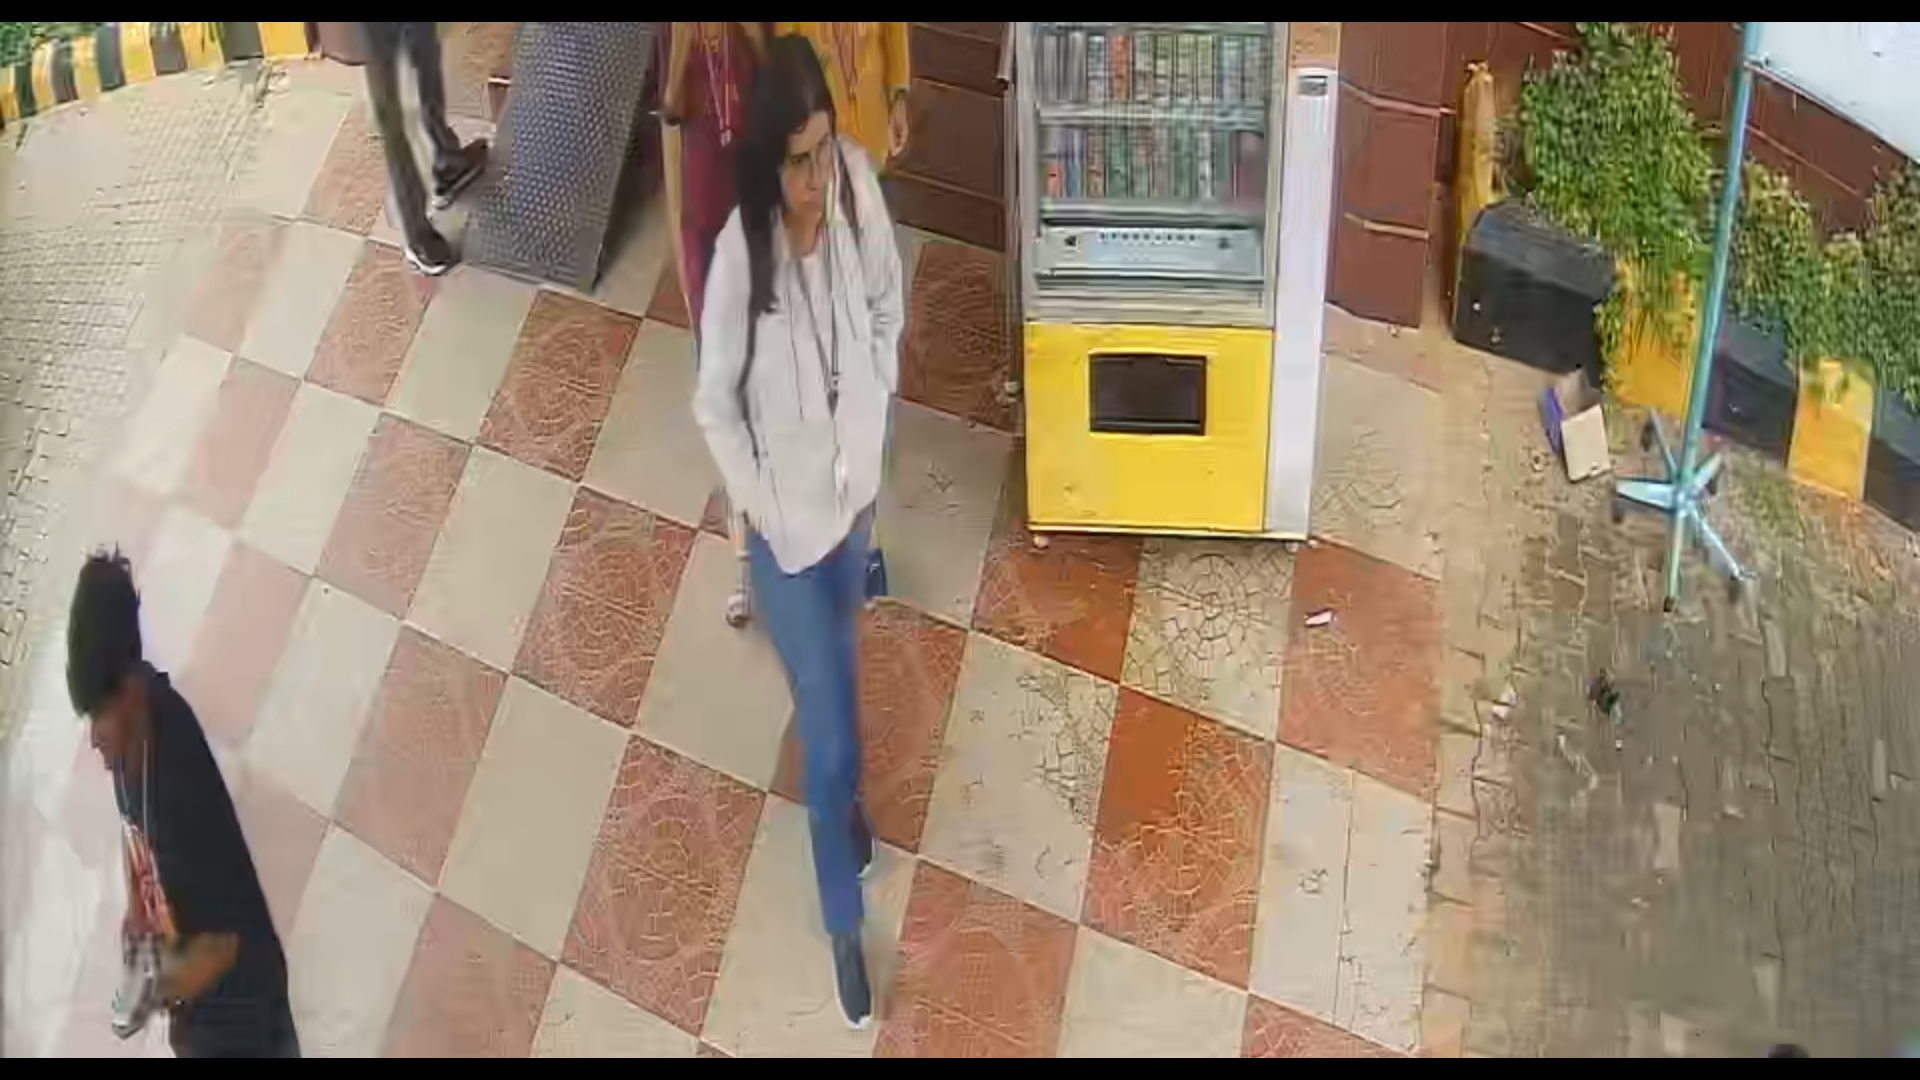not intruder: (683, 28, 926, 1027)
